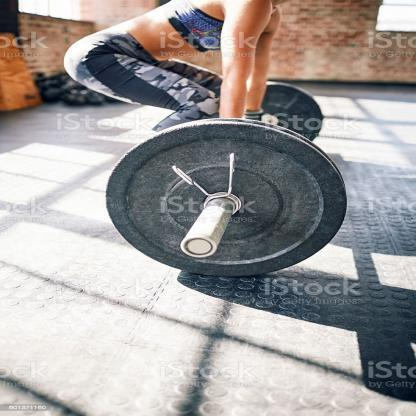Barbell: (177, 233, 226, 261)
